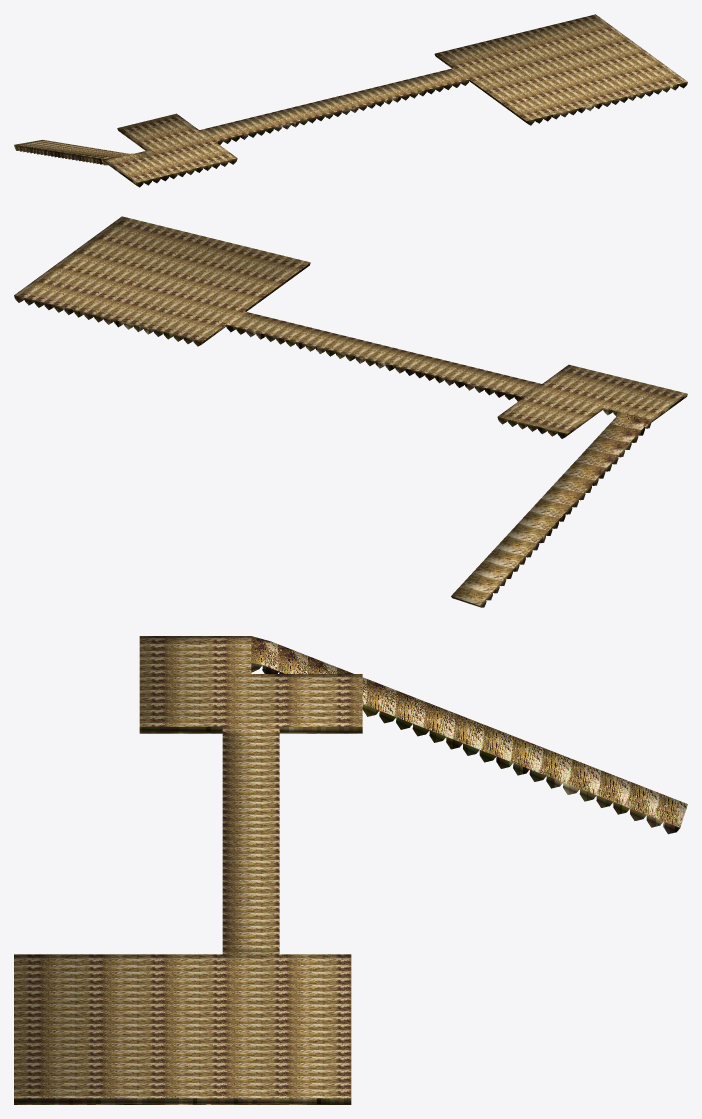
File: ForestReworkBridgeFix.glb
3 renders of one model, top to bottom at view 1: azimuth 30°, elevation 25°; view 2: azimuth 150°, elevation 25°; view 3: azimuth 270°, elevation 25°, orthographic. The views are drawn at different scales.
Visible parts, largest first — view 1: bridge.006; view 2: bridge.006; view 3: bridge.006.
Boxes of the visible parts, <box> form: bridge.006: <box>14,14,687,187</box>; bridge.006: <box>14,216,687,607</box>; bridge.006: <box>14,636,687,1104</box>.
Bounding box in the file's own units: 288 × 43.54 × 177.
2 materials, 2 textured.
